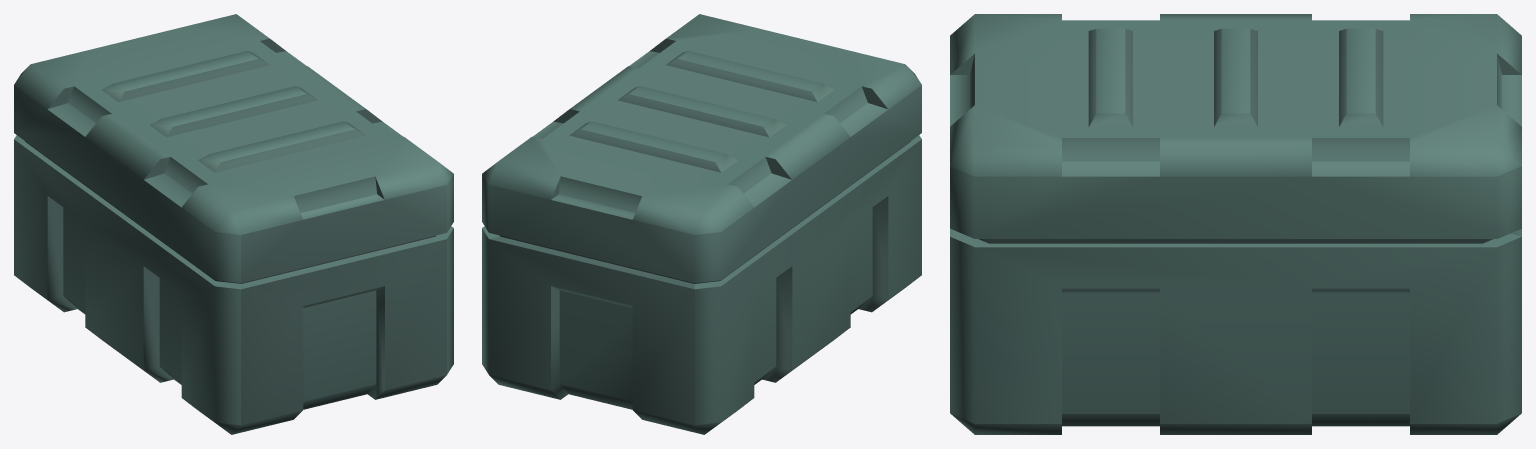
File: MilitaryCrateBox.fbx
The picture shows the model from 3 angles, left to right: view 1: azimuth 30°, elevation 25°; view 2: azimuth 150°, elevation 25°; view 3: azimuth 270°, elevation 25°; orthographic projection. The views are drawn at different scales.
Visible parts, largest first — view 1: MilitaryCrateBox; view 2: MilitaryCrateBox; view 3: MilitaryCrateBox.
Part boxes in pixels (box(x1,y1,x2,y2)): MilitaryCrateBox: box(14, 14, 453, 434); MilitaryCrateBox: box(482, 14, 921, 434); MilitaryCrateBox: box(950, 14, 1521, 434).
Bounding box in the file's own units: 99.99 × 91.89 × 160.
